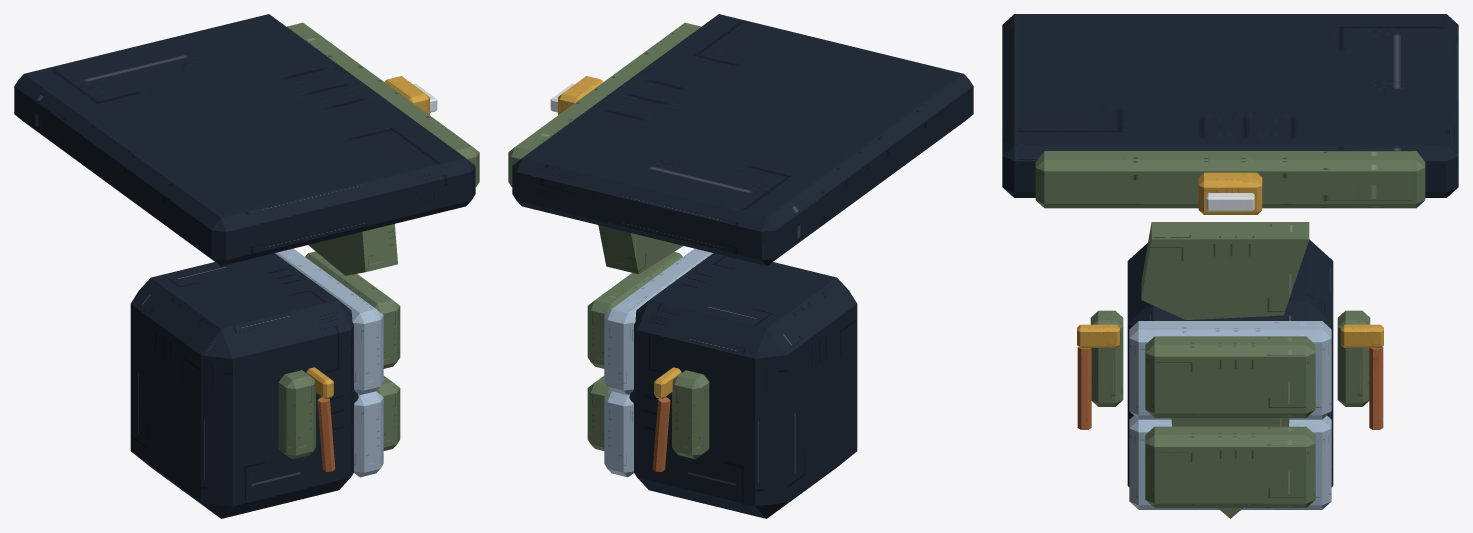
The model's file is sapper.glb.
The picture shows the model from 3 angles, left to right: view 1: azimuth 30°, elevation 25°; view 2: azimuth 150°, elevation 25°; view 3: azimuth 270°, elevation 25°; orthographic projection. The views are drawn at different scales.
Visible parts, largest first — view 1: hips, leg_L, leg_R, shin_L; view 2: hips, leg_L, shin_L; view 3: hips, leg_L, shin_L, leg_R.
Boxes of the visible parts, x1,y1,x2,y2 form: hips: (14,14,479,265); leg_L: (130,248,400,518); leg_R: (278,367,335,471); shin_L: (308,224,397,402); hips: (508,14,973,265); leg_L: (587,248,857,518); shin_L: (598,225,682,402); hips: (1002,14,1458,214); leg_L: (1127,239,1383,509); shin_L: (1141,222,1309,518); leg_R: (1077,310,1123,429).
Bounding box in the file's own units: 0.232 × 0.256 × 0.266.
6 materials, 6 textured.
